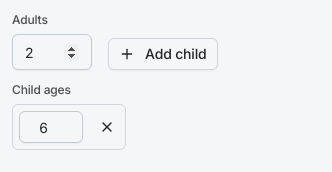
Test: TravellerCountsEditor › Add child appends a default-age row and derives the children count from the roster length
Click the button "Add child" at (163, 54), box [108,38,218,70]
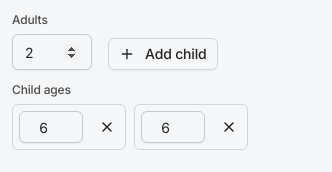
expect the number of number fields named "Child 1 age" is 2: met, box [19,111,83,143]; [141,111,205,143]
